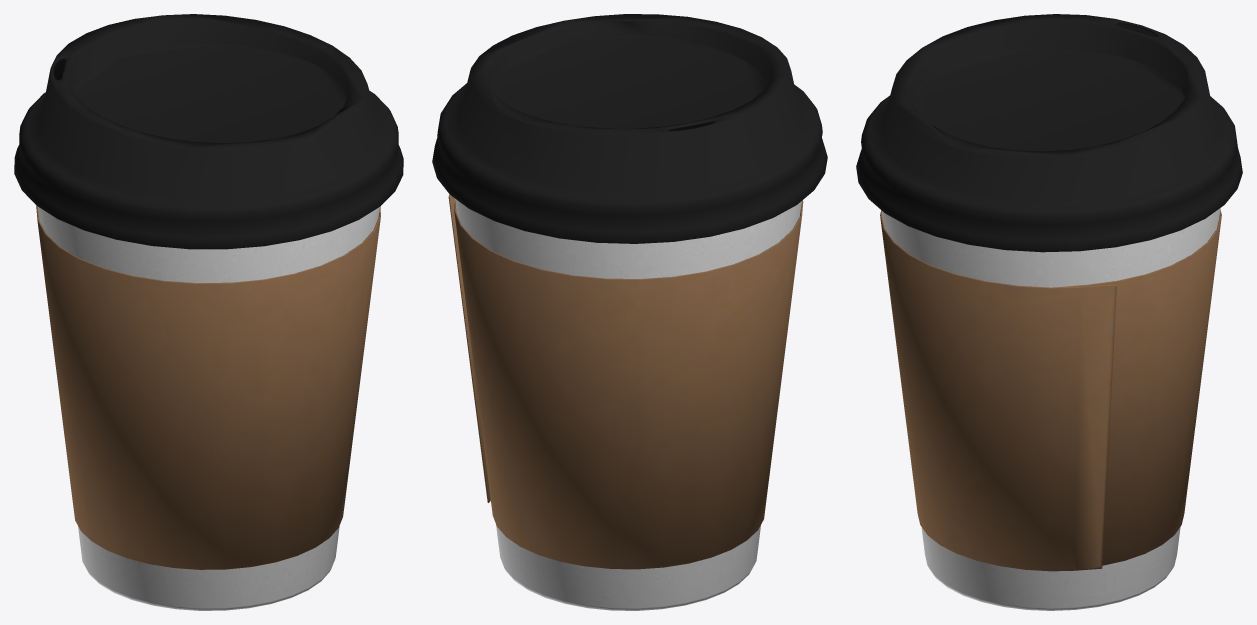
File: cup.glb
3 renders of one model, left to right at view 1: azimuth 30°, elevation 25°; view 2: azimuth 150°, elevation 25°; view 3: azimuth 270°, elevation 25°, orthographic. The views are drawn at different scales.
Visible parts, largest first — view 1: Cup; view 2: Cup; view 3: Cup.
Part boxes in pixels (left/top/right/bottom): Cup: left=14, top=14, right=403, bottom=610; Cup: left=432, top=14, right=827, bottom=610; Cup: left=856, top=14, right=1242, bottom=610.
Size of the model in its own units: 0.0882 by 0.1207 by 0.0882.
1 material, 1 textured.
